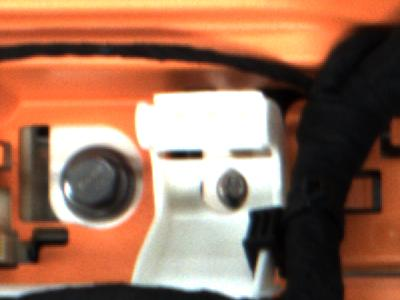nut_b: (52, 142, 147, 228)
